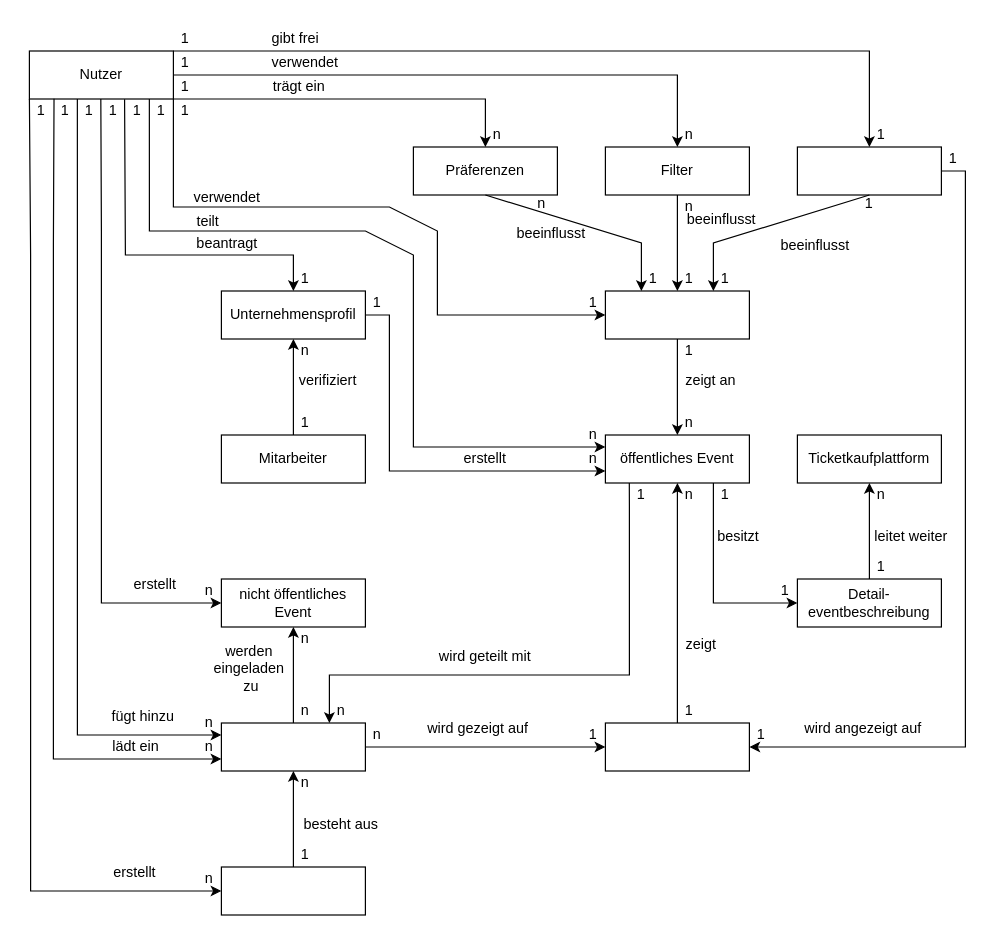
This 996x936 diagram has some shape labels left out. The shapes that lost their labels are listed below. From the top down, each one's centre as x and y in pixels, then its label:
At [868,170]: "Standort".
At [676,314]: "Suche".
At [292,746]: "Freund".
At [676,746]: "Karte".
At [292,890]: "Freundesliste".
